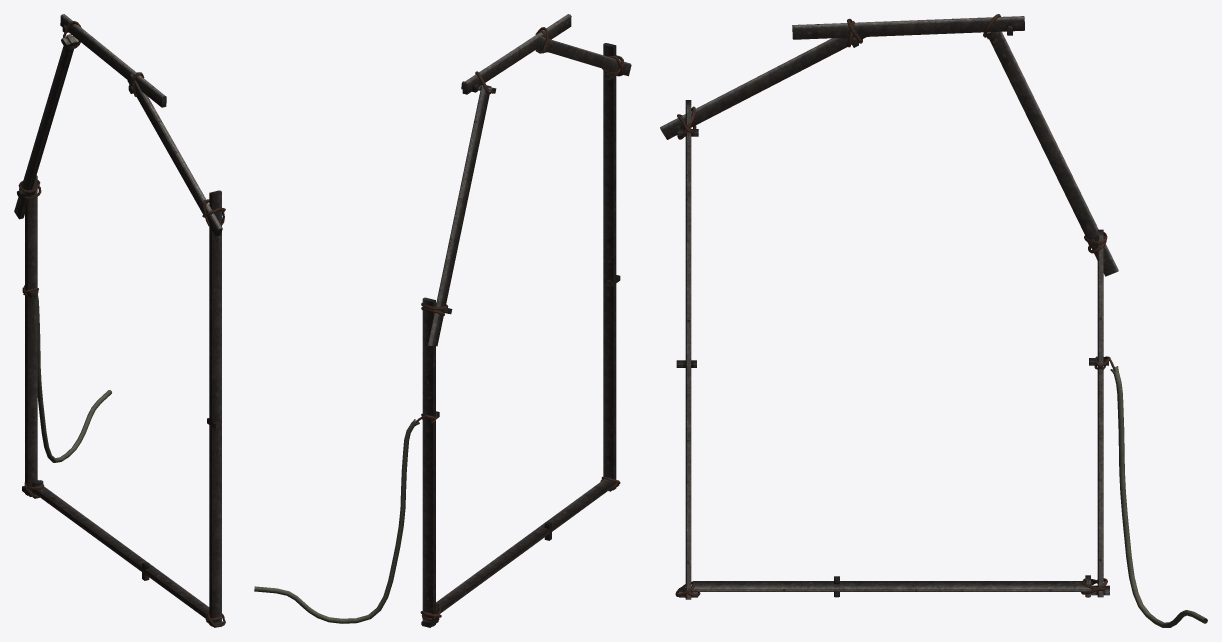
The model's file is 04_02_electric_trap.dae.
3 renders of one model, left to right at view 1: azimuth 30°, elevation 25°; view 2: azimuth 150°, elevation 25°; view 3: azimuth 270°, elevation 25°, orthographic. The views are drawn at different scales.
Parts seen in each view (by area): view 1: polySurface501, polySurface502; view 2: polySurface501, polySurface502; view 3: polySurface501, polySurface502.
Boxes of the visible parts, <box> form: polySurface501: <box>14,14,223,627</box>; polySurface502: <box>18,21,225,627</box>; polySurface501: <box>421,14,631,627</box>; polySurface502: <box>254,27,624,623</box>; polySurface501: <box>660,16,1118,599</box>; polySurface502: <box>675,14,1207,627</box>.
Bounding box in the file's own units: 0.7364 × 2.51 × 2.15.
